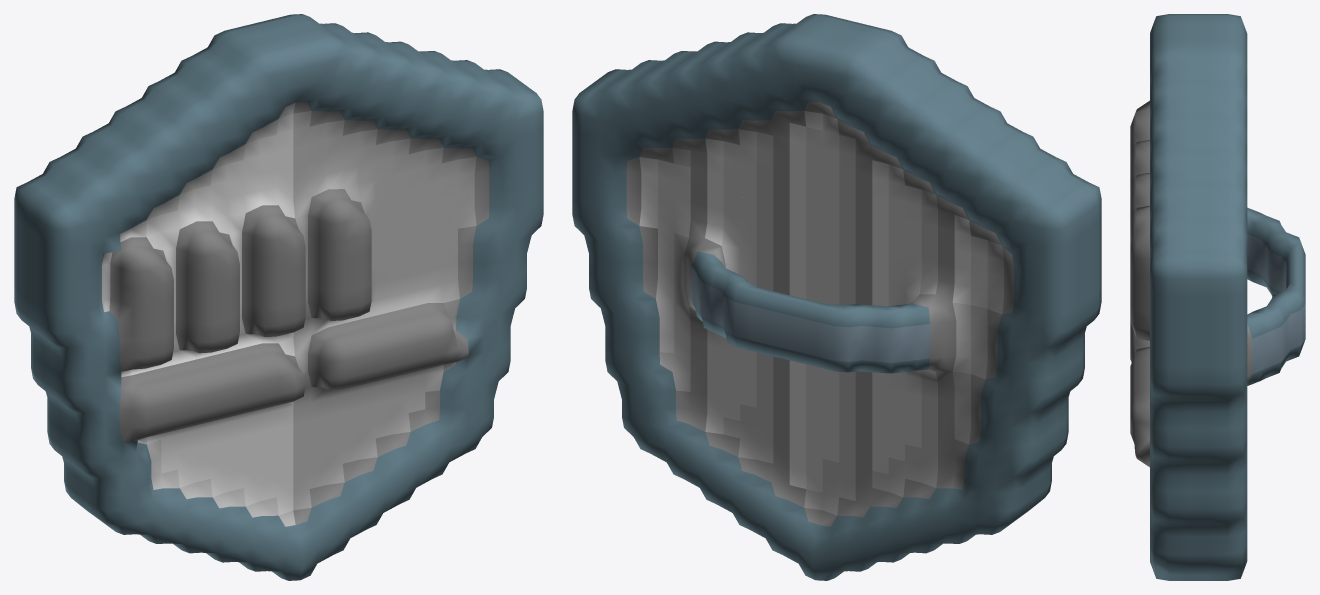
The picture shows the model from 3 angles, left to right: view 1: azimuth 30°, elevation 25°; view 2: azimuth 150°, elevation 25°; view 3: azimuth 270°, elevation 25°; orthographic projection. The views are drawn at different scales.
Size of the model in its own units: 1.5 by 1.55 by 0.45.
